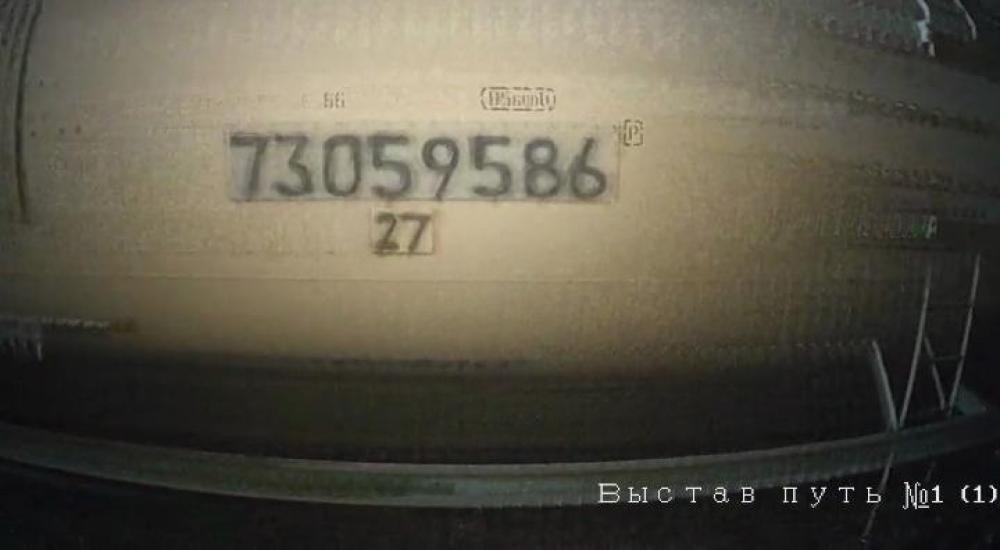Wagon-number: (226, 124, 612, 203)
